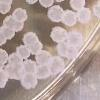white: (44, 53, 66, 75), (2, 14, 25, 33), (49, 24, 68, 44), (32, 47, 52, 66), (21, 71, 40, 91), (47, 3, 65, 24), (20, 58, 39, 77), (65, 30, 85, 48), (32, 62, 51, 80), (5, 63, 23, 82), (64, 42, 81, 61), (76, 6, 94, 23), (62, 9, 79, 27), (22, 30, 39, 47), (14, 43, 31, 60), (0, 25, 17, 41), (28, 39, 44, 56), (7, 51, 24, 67), (13, 7, 28, 23), (55, 41, 70, 57), (0, 68, 10, 91), (68, 0, 87, 12), (37, 0, 56, 10), (0, 47, 9, 65), (0, 5, 12, 16), (92, 3, 100, 18), (0, 0, 16, 7), (0, 33, 7, 48), (24, 0, 39, 6), (0, 62, 5, 74), (53, 0, 65, 4)
